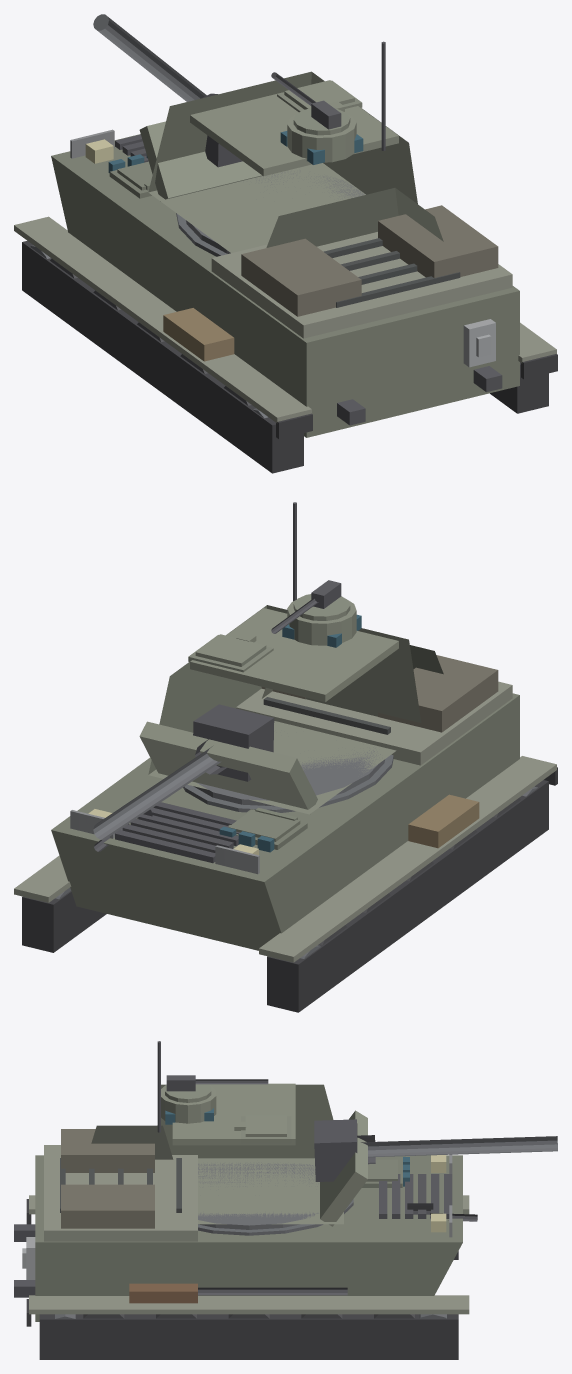
File: chinese_tank.glb
The picture shows the model from 3 angles, top to bottom: view 1: azimuth 30°, elevation 25°; view 2: azimuth 150°, elevation 25°; view 3: azimuth 270°, elevation 25°; orthographic projection. The views are drawn at different scales.
Visible parts, largest first — view 1: hull, turret, track_l, fender_l, engine_deck, fuel_cell_l, fuel_cell_r, cupola, grille, stowage, barrel, track_r (+12 smaller); view 2: hull, turret, track_l, fender_l, engine_deck, fuel_cell_l, spare_track, turret_ring, mantlet, track_r, barrel, cupola (+7 smaller); view 3: hull, turret, track_r, fender_r, engine_deck, fuel_cell_r, turret_ring, fuel_cell_l, barrel, mantlet, spare_track, cupola (+9 smaller).
Boxes of the visible parts, x1,y1,x2,y2 form: hull: (51, 134, 519, 437); turret: (139, 71, 443, 253); track_l: (22, 241, 303, 473); fender_l: (14, 216, 311, 423); engine_deck: (211, 232, 512, 338); fuel_cell_l: (241, 238, 361, 316); fuel_cell_r: (378, 205, 498, 277); cupola: (287, 108, 356, 162); grille: (323, 238, 460, 307); stowage: (163, 308, 234, 361); barrel: (93, 14, 206, 101); track_r: (490, 362, 548, 413); hull: (51, 693, 519, 950); turret: (139, 605, 443, 814); track_l: (267, 780, 548, 1012); fender_l: (259, 756, 556, 962); engine_deck: (236, 681, 512, 765); fuel_cell_l: (378, 655, 498, 732); spare_track: (115, 802, 239, 863); turret_ring: (183, 747, 393, 812); mantlet: (193, 704, 274, 781); track_r: (22, 891, 106, 952); barrel: (93, 746, 221, 839); cupola: (287, 594, 356, 645); hull: (35, 1155, 462, 1321); turret: (91, 1083, 367, 1226); track_r: (39, 1314, 458, 1359); fender_r: (29, 1295, 469, 1314); engine_deck: (44, 1145, 197, 1241); fuel_cell_r: (61, 1184, 154, 1228); turret_ring: (198, 1162, 353, 1235); fuel_cell_l: (61, 1129, 154, 1172); barrel: (361, 1136, 557, 1157); mantlet: (314, 1119, 375, 1181); spare_track: (379, 1174, 452, 1218); cupola: (161, 1084, 216, 1123).
Size of the model in its own units: 3.54 by 4.04 by 7.12.
